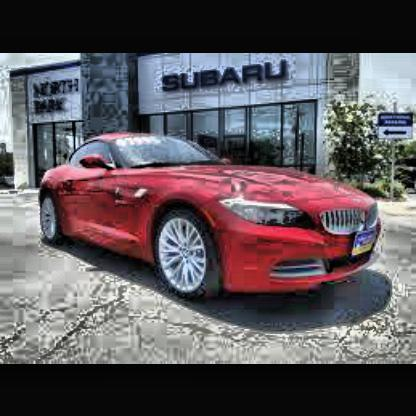BMW Z4 Convertible 2012: (42, 133, 385, 308)
